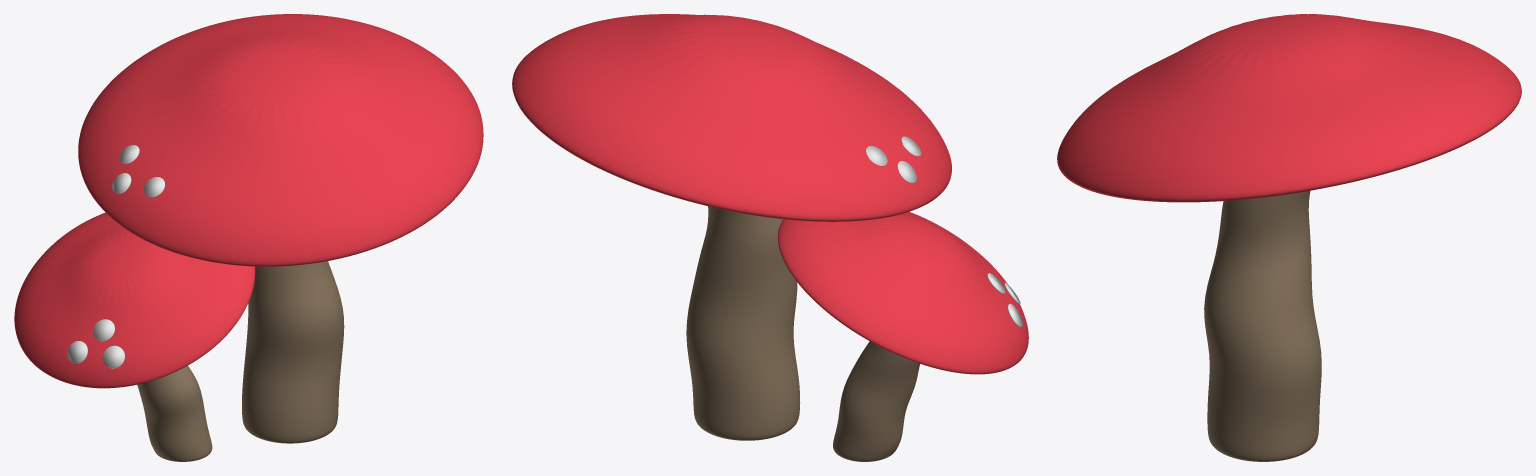
The model's file is mushroom_2.glb.
3 renders of one model, left to right at view 1: azimuth 30°, elevation 25°; view 2: azimuth 150°, elevation 25°; view 3: azimuth 270°, elevation 25°, orthographic. The views are drawn at different scales.
Parts seen in each view (by area): view 1: Mushroom.007; view 2: Mushroom.007; view 3: Mushroom.007.
Part boxes in pixels (left/top/right/bottom): Mushroom.007: left=14, top=14, right=483, bottom=461; Mushroom.007: left=512, top=14, right=1028, bottom=461; Mushroom.007: left=1057, top=14, right=1521, bottom=461.
Bounding box in the file's own units: 1.07 × 0.8665 × 0.8796.
